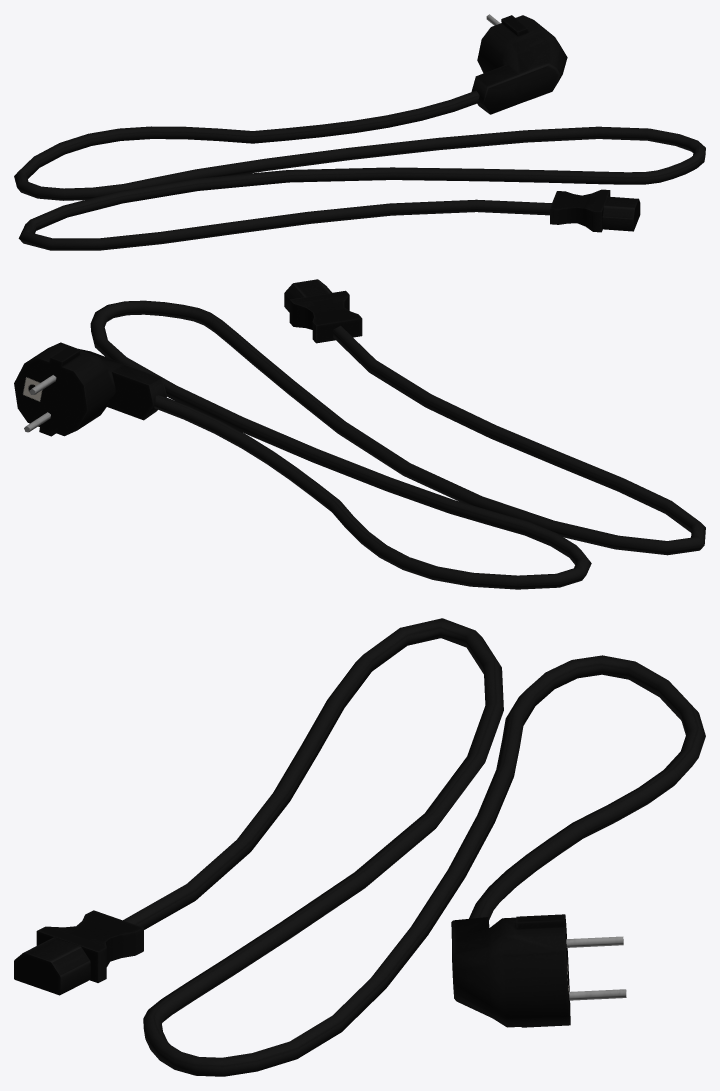
The model's file is Cables.fbx.
The picture shows the model from 3 angles, top to bottom: view 1: azimuth 30°, elevation 25°; view 2: azimuth 150°, elevation 25°; view 3: azimuth 270°, elevation 25°; orthographic projection. The views are drawn at different scales.
Visible parts, largest first — view 1: Cylinder001; view 2: Cylinder001; view 3: Cylinder001.
Boxes of the visible parts, left/top/right/bottom form: Cylinder001: left=14, top=14, right=705, bottom=250; Cylinder001: left=14, top=279, right=705, bottom=589; Cylinder001: left=14, top=618, right=705, bottom=1076.
Size of the model in its own units: 45.46 by 4.99 by 29.67.
